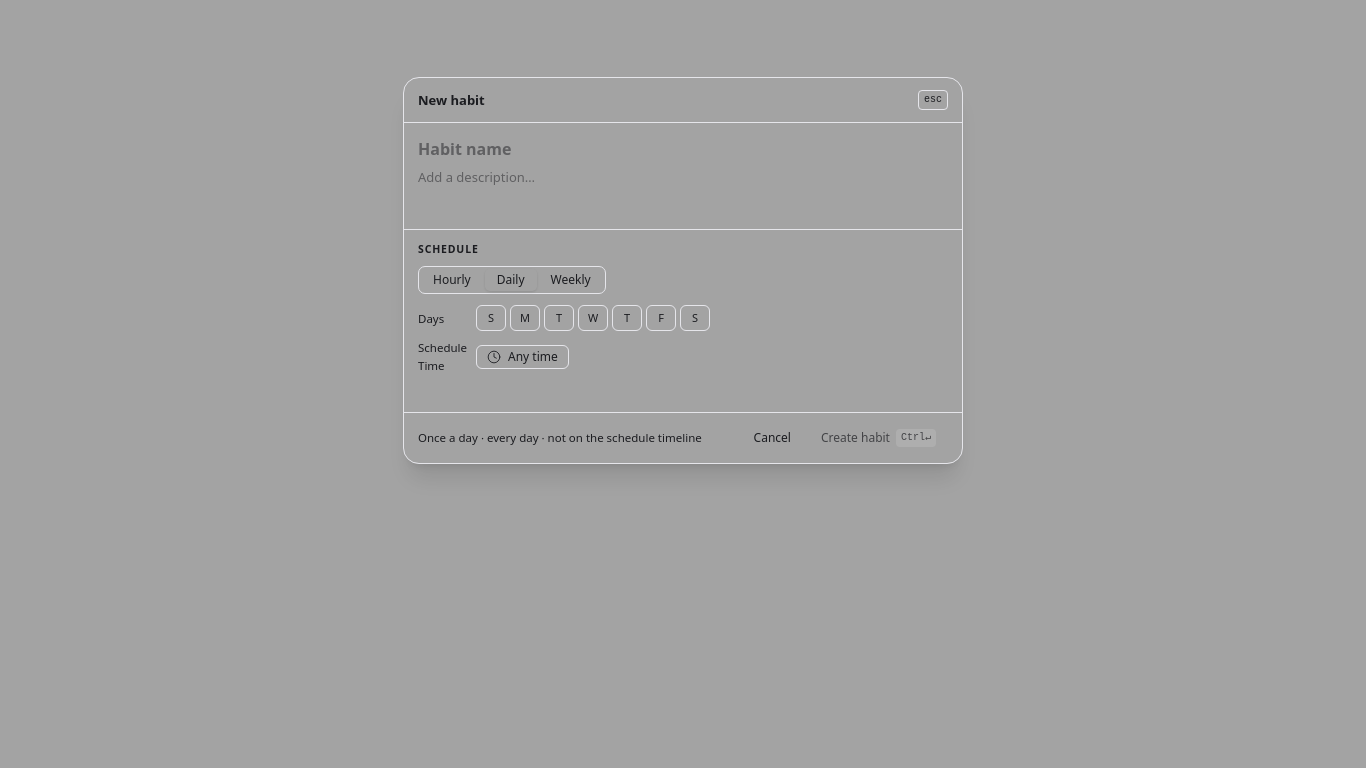
Test: HabitModal — create › labels hourly windows and daily schedule times distinctly
The width and height of the screenshot is (1366, 768).
Expected: the text "Schedule Time" is shown, [418, 339, 464, 374]
Expected: the text "Active Window" is not shown
Click the button "Hourly". click: (452, 280)
box: [421, 269, 483, 291]
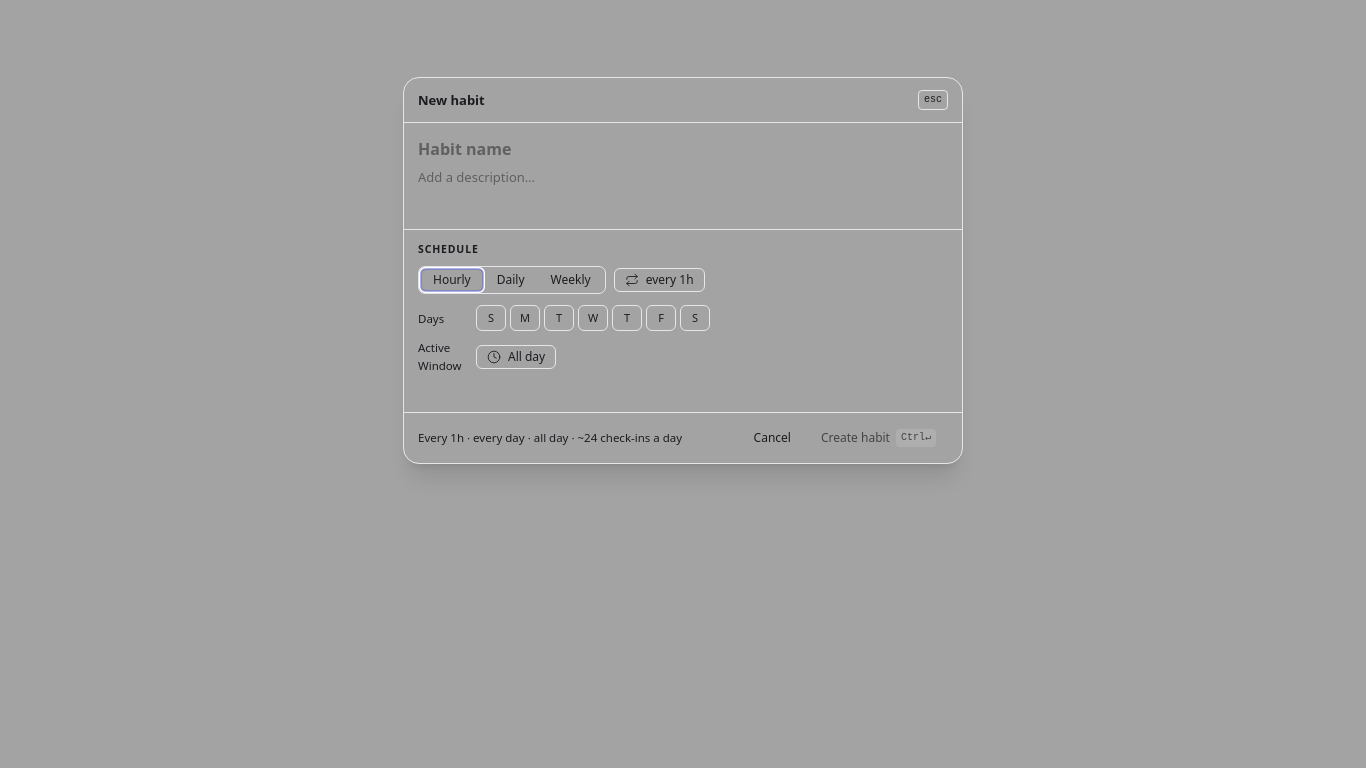
Now the text "Active Window" is shown, box [418, 339, 464, 374]
Now the text "Schedule Time" is gone
